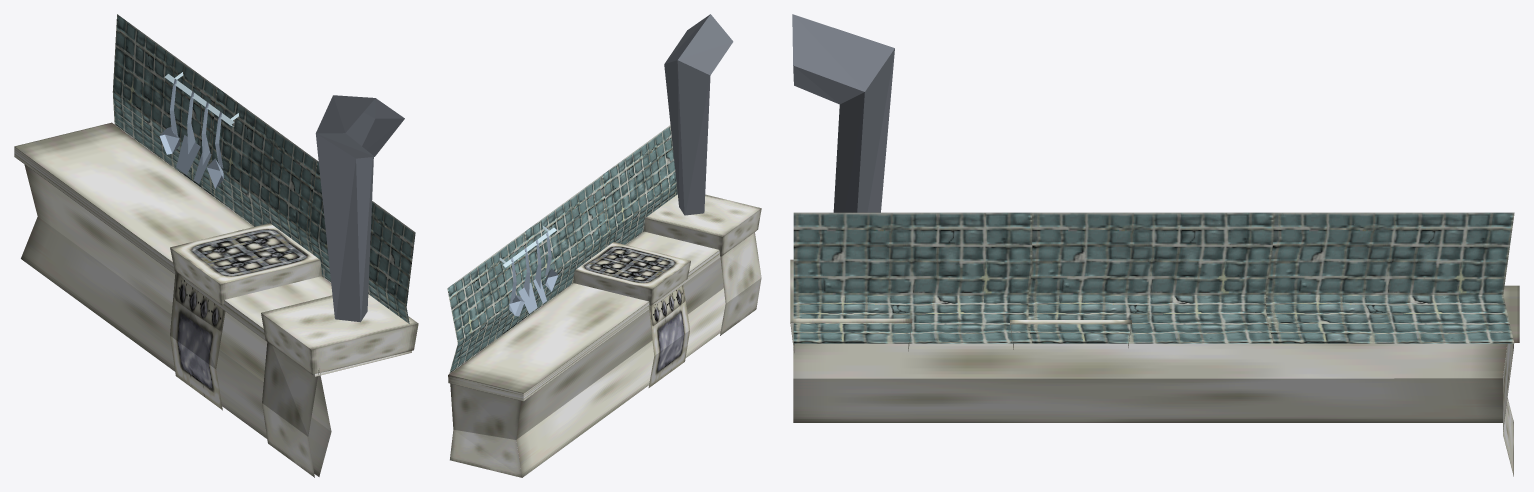
File: KüchenHerd [Grau]_2081.glb
3 views of the same model, side by side, from view 1: azimuth 30°, elevation 25°; view 2: azimuth 150°, elevation 25°; view 3: azimuth 270°, elevation 25° (orthographic). The views are drawn at different scales.
Visible parts, largest first — view 1: pPlaneShape112, pPlaneShape98, pPlaneShape100, pCylinderShape189, pPlaneShape102, pPlaneShape111, pPlaneShape110, pPlaneShape107, pPlaneShape106, pPlaneShape101, pPlaneShape104, pPlaneShape108 (+3 smaller); view 2: pPlaneShape112, pPlaneShape98, pPlaneShape100, pCylinderShape189, pPlaneShape99, pPlaneShape102, pPlaneShape111, pPlaneShape110, pPlaneShape107, pPlaneShape101, pPlaneShape109, pPlaneShape105 (+2 smaller); view 3: pPlaneShape112, pPlaneShape98, pCylinderShape189, pPlaneShape99, pPlaneShape107.
Part boxes in pixels (bbox=[...]): pPlaneShape112: bbox=[112, 14, 415, 323]; pPlaneShape98: bbox=[21, 164, 331, 476]; pPlaneShape100: bbox=[14, 122, 332, 328]; pCylinderShape189: bbox=[315, 95, 404, 322]; pPlaneShape102: bbox=[170, 223, 319, 284]; pPlaneShape111: bbox=[170, 271, 225, 410]; pPlaneShape110: bbox=[262, 342, 318, 477]; pPlaneShape107: bbox=[261, 294, 418, 349]; pPlaneShape106: bbox=[311, 323, 418, 374]; pPlaneShape101: bbox=[14, 146, 411, 376]; pPlaneShape104: bbox=[220, 260, 322, 305]; pPlaneShape108: bbox=[261, 313, 312, 374]; pPlaneShape112: bbox=[447, 125, 677, 373]; pPlaneShape98: bbox=[516, 257, 725, 477]; pPlaneShape100: bbox=[448, 231, 718, 393]; pCylinderShape189: bbox=[664, 14, 733, 215]; pPlaneShape99: bbox=[450, 383, 522, 477]; pPlaneShape102: bbox=[575, 242, 690, 289]; pPlaneShape111: bbox=[648, 284, 689, 387]; pPlaneShape110: bbox=[720, 232, 761, 335]; pPlaneShape107: bbox=[646, 194, 761, 236]; pPlaneShape101: bbox=[448, 231, 755, 401]; pPlaneShape109: bbox=[643, 218, 722, 256]; pPlaneShape105: bbox=[572, 271, 651, 305]; pPlaneShape112: bbox=[793, 212, 1514, 343]; pPlaneShape98: bbox=[793, 343, 1507, 422]; pCylinderShape189: bbox=[792, 14, 894, 212]; pPlaneShape99: bbox=[1503, 343, 1513, 476]; pPlaneShape107: bbox=[790, 259, 912, 322].
Size of the model in its own units: 0.1195 by 0.3827 by 0.5725.
27 materials, 15 textured.
